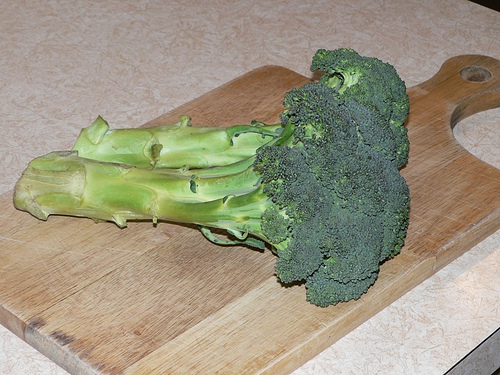broccoli: (12, 79, 408, 306), (71, 47, 420, 172)
